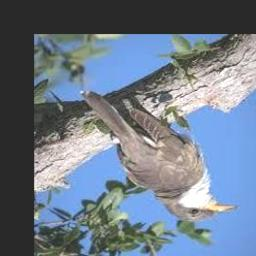Cuckoo: (80, 90, 238, 221)
